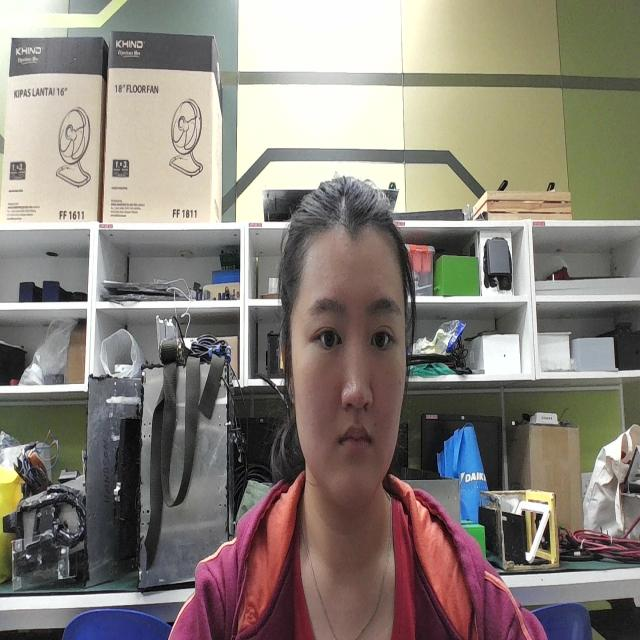Without Helmet: (252, 142, 454, 555)
